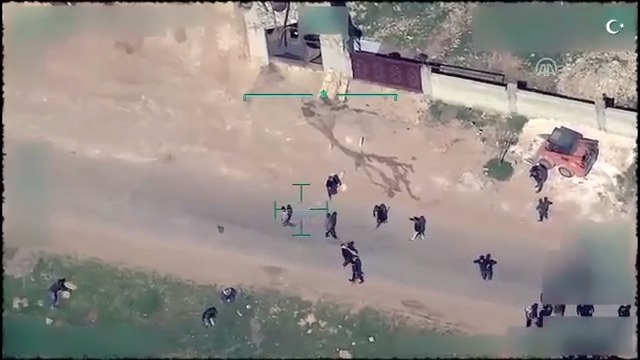arac: (529, 125, 605, 179)
insan: (409, 211, 425, 242), (325, 173, 337, 201)
